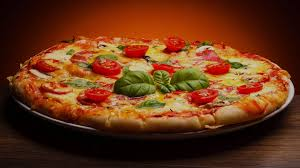pizza: (17, 37, 286, 132)
